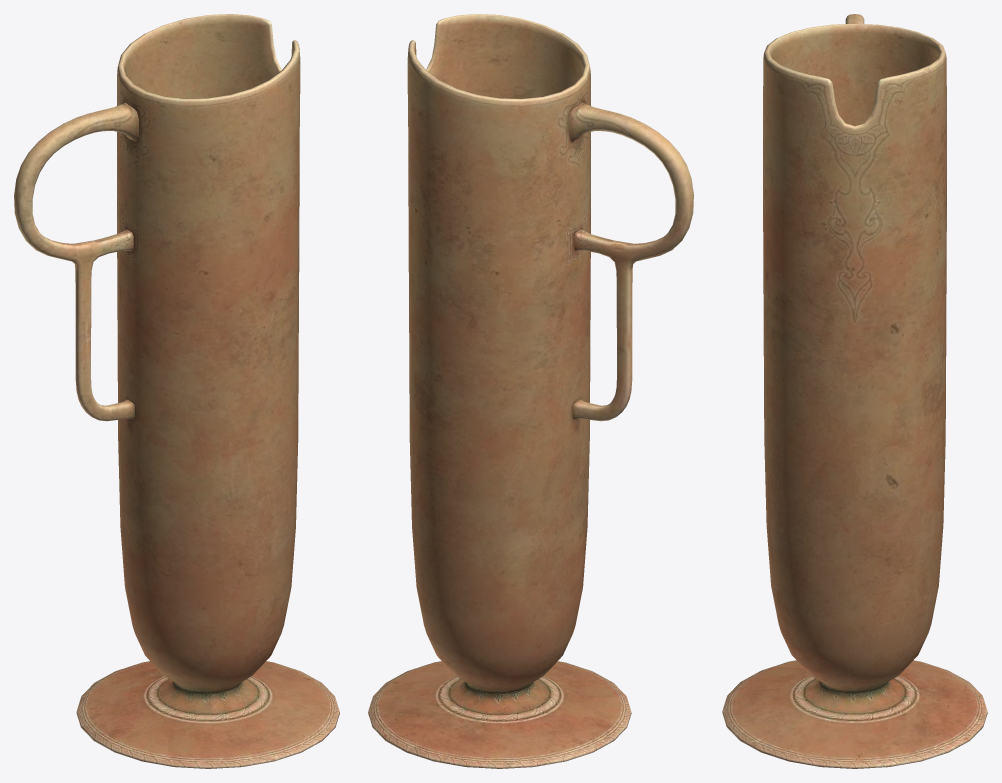
The model's file is brass_vase_04.glb.
3 views of the same model, side by side, from view 1: azimuth 30°, elevation 25°; view 2: azimuth 150°, elevation 25°; view 3: azimuth 270°, elevation 25° (orthographic).
Parts seen in each view (by area): view 1: brass_vase_04; view 2: brass_vase_04; view 3: brass_vase_04.
Boxes of the visible parts, x1=… form: brass_vase_04: x1=14, y1=14, x2=339, y2=768; brass_vase_04: x1=368, y1=14, x2=693, y2=768; brass_vase_04: x1=722, y1=14, x2=987, y2=768.
Bounding box in the file's own units: 0.082 × 0.1703 × 0.061.
1 material, 1 textured.
